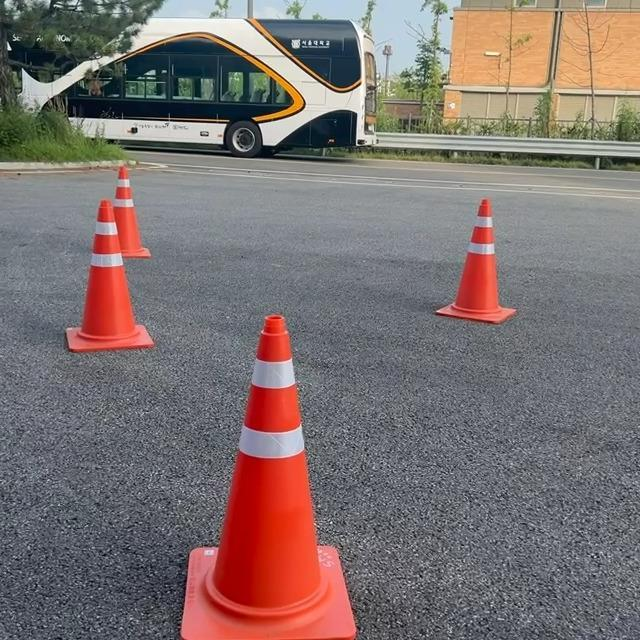fallen_object: (177, 281, 346, 616), (39, 197, 160, 354), (432, 180, 542, 352), (89, 160, 188, 253)
